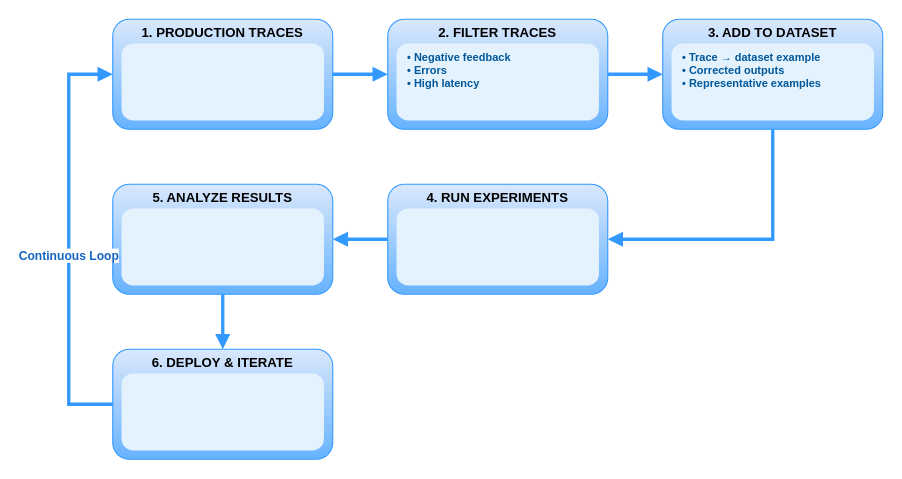
The diagram is 902 pixels wide and 479 high, and some of its shapes have lost their labels. Each missing label, with the centre of its shape:
"• Compare traces • Identify failures • Find improvements" goes at (x=222, y=246).
"• Deploy changes • Monitor production • Collect feedback" goes at (x=222, y=411).
"• Real app usage • Each request = trace • Inputs/outputs captured" goes at (x=222, y=81).
"• Test changes • Run on dataset • Evaluation metrics" goes at (x=497, y=246).
